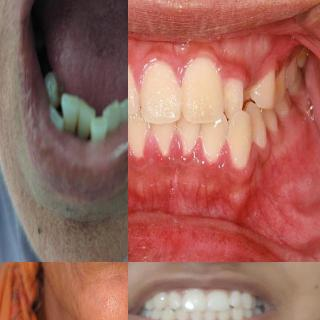Gum Swelling: (136, 50, 245, 92), (128, 127, 211, 173)
maligned: (228, 102, 254, 180), (43, 94, 68, 142), (128, 108, 148, 162), (89, 114, 111, 146), (158, 306, 174, 320)
plaque: (185, 58, 220, 126), (142, 63, 180, 123), (222, 77, 242, 117), (128, 56, 136, 110)
